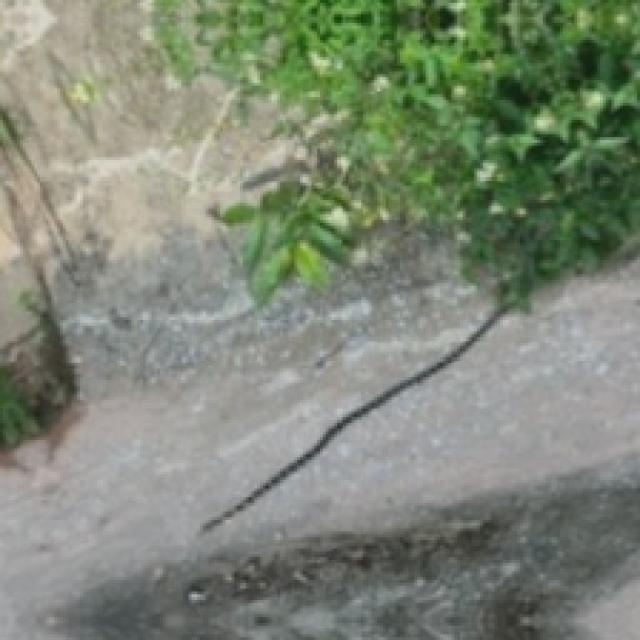king cobra: (200, 306, 506, 529)
